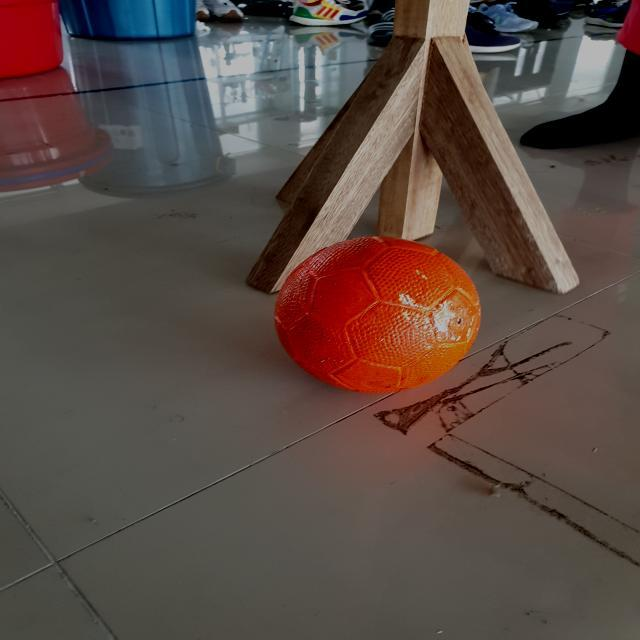bola: (268, 226, 486, 405)
